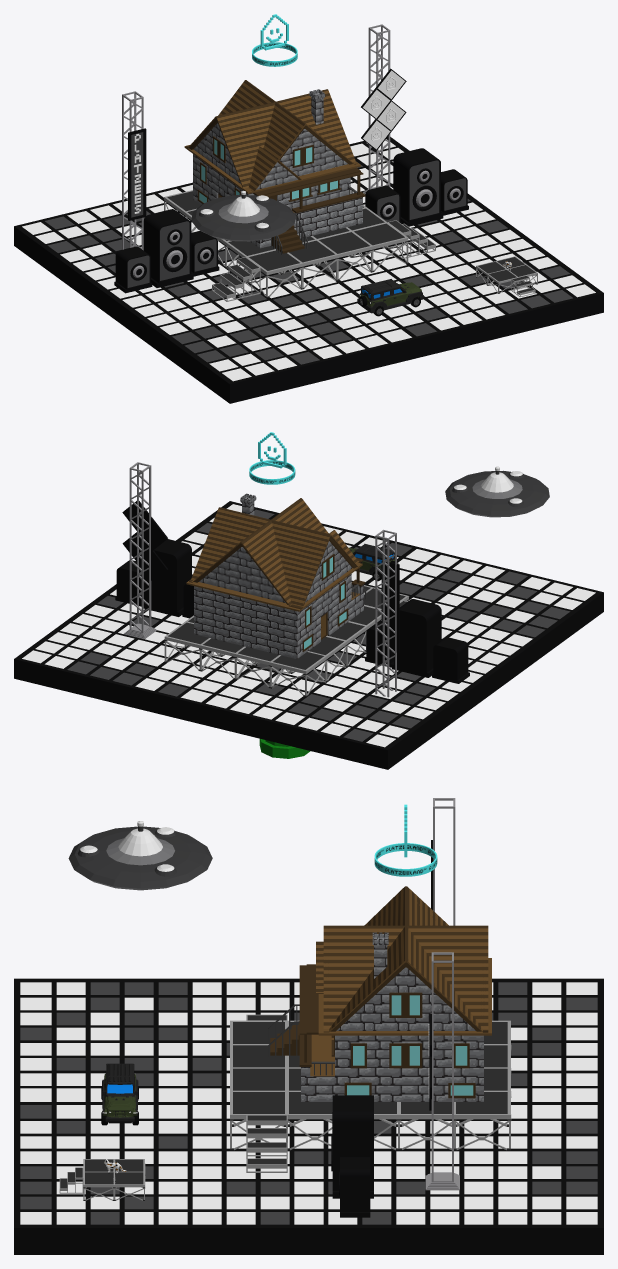
The picture shows the model from 3 angles, top to bottom: view 1: azimuth 30°, elevation 25°; view 2: azimuth 150°, elevation 25°; view 3: azimuth 270°, elevation 25°; orthographic projection. The views are drawn at different scales.
Parts seen in each view (by area): view 1: Cube.008, Cube.586, OBJRANDOM_UFO, VEHICLES_JEEP, TYPE_PREMIUM; view 2: Cube.008, Cube.586, OBJRANDOM_UFO, TYPE_PREMIUM, VEHICLES_JEEP, UNDERGROUND_PIPES; view 3: Cube.008, Cube.586, OBJRANDOM_UFO, VEHICLES_JEEP, TYPE_PREMIUM.
Boxes of the visible parts, <box> form: Cube.008: <box>14,24,603,403</box>; Cube.586: <box>184,80,365,254</box>; OBJRANDOM_UFO: <box>191,190,295,241</box>; VEHICLES_JEEP: <box>357,279,423,316</box>; TYPE_PREMIUM: <box>252,14,297,66</box>; Cube.008: <box>14,462,603,769</box>; Cube.586: <box>186,493,366,658</box>; OBJRANDOM_UFO: <box>445,466,549,517</box>; TYPE_PREMIUM: <box>249,432,295,484</box>; VEHICLES_JEEP: <box>348,543,398,581</box>; UNDERGROUND_PIPES: <box>259,738,310,758</box>; Cube.008: <box>14,798,603,1254</box>; Cube.586: <box>268,886,491,1101</box>; OBJRANDOM_UFO: <box>68,821,212,890</box>; VEHICLES_JEEP: <box>101,1063,138,1125</box>; TYPE_PREMIUM: <box>374,804,437,876</box>.
Size of the model in its own units: 4000 by 3095 by 4000.
Materials: 36 (3 with a texture image).
